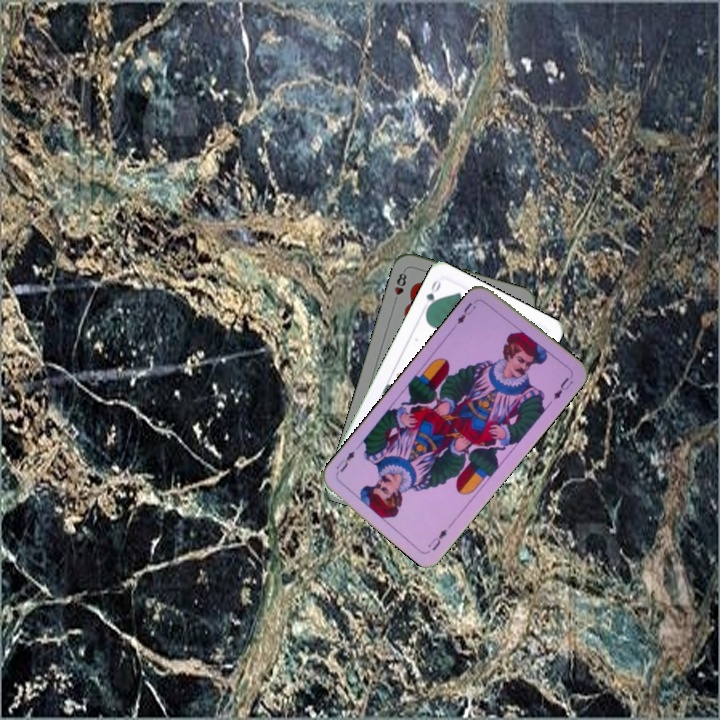EU: (453, 296, 480, 327), (424, 525, 450, 554)
GO: (422, 276, 444, 315)
H8: (390, 266, 409, 306)
